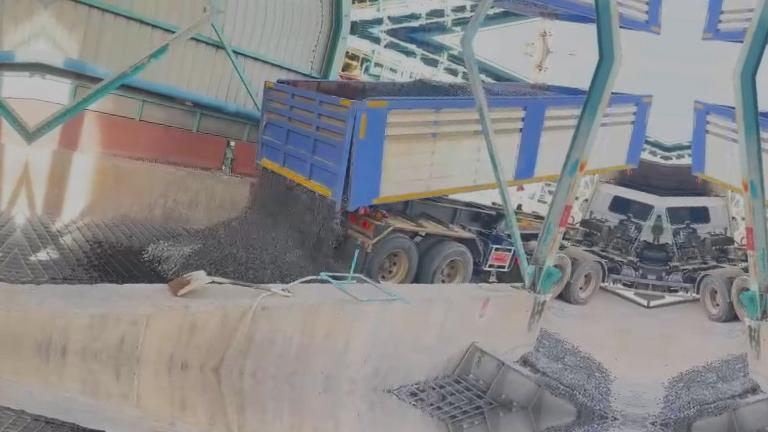gravel: (144, 170, 348, 283), (519, 330, 623, 418), (350, 79, 472, 99), (483, 84, 559, 97)
